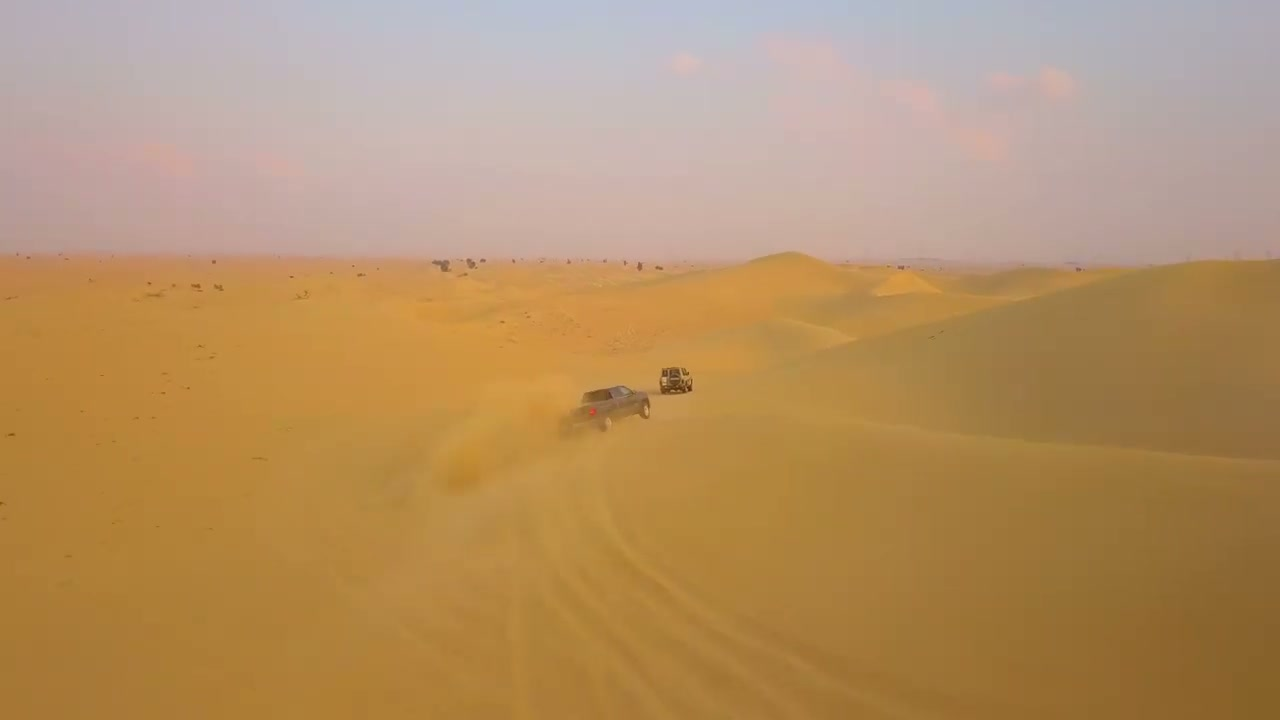vehicle_track: (546, 460, 913, 719)
